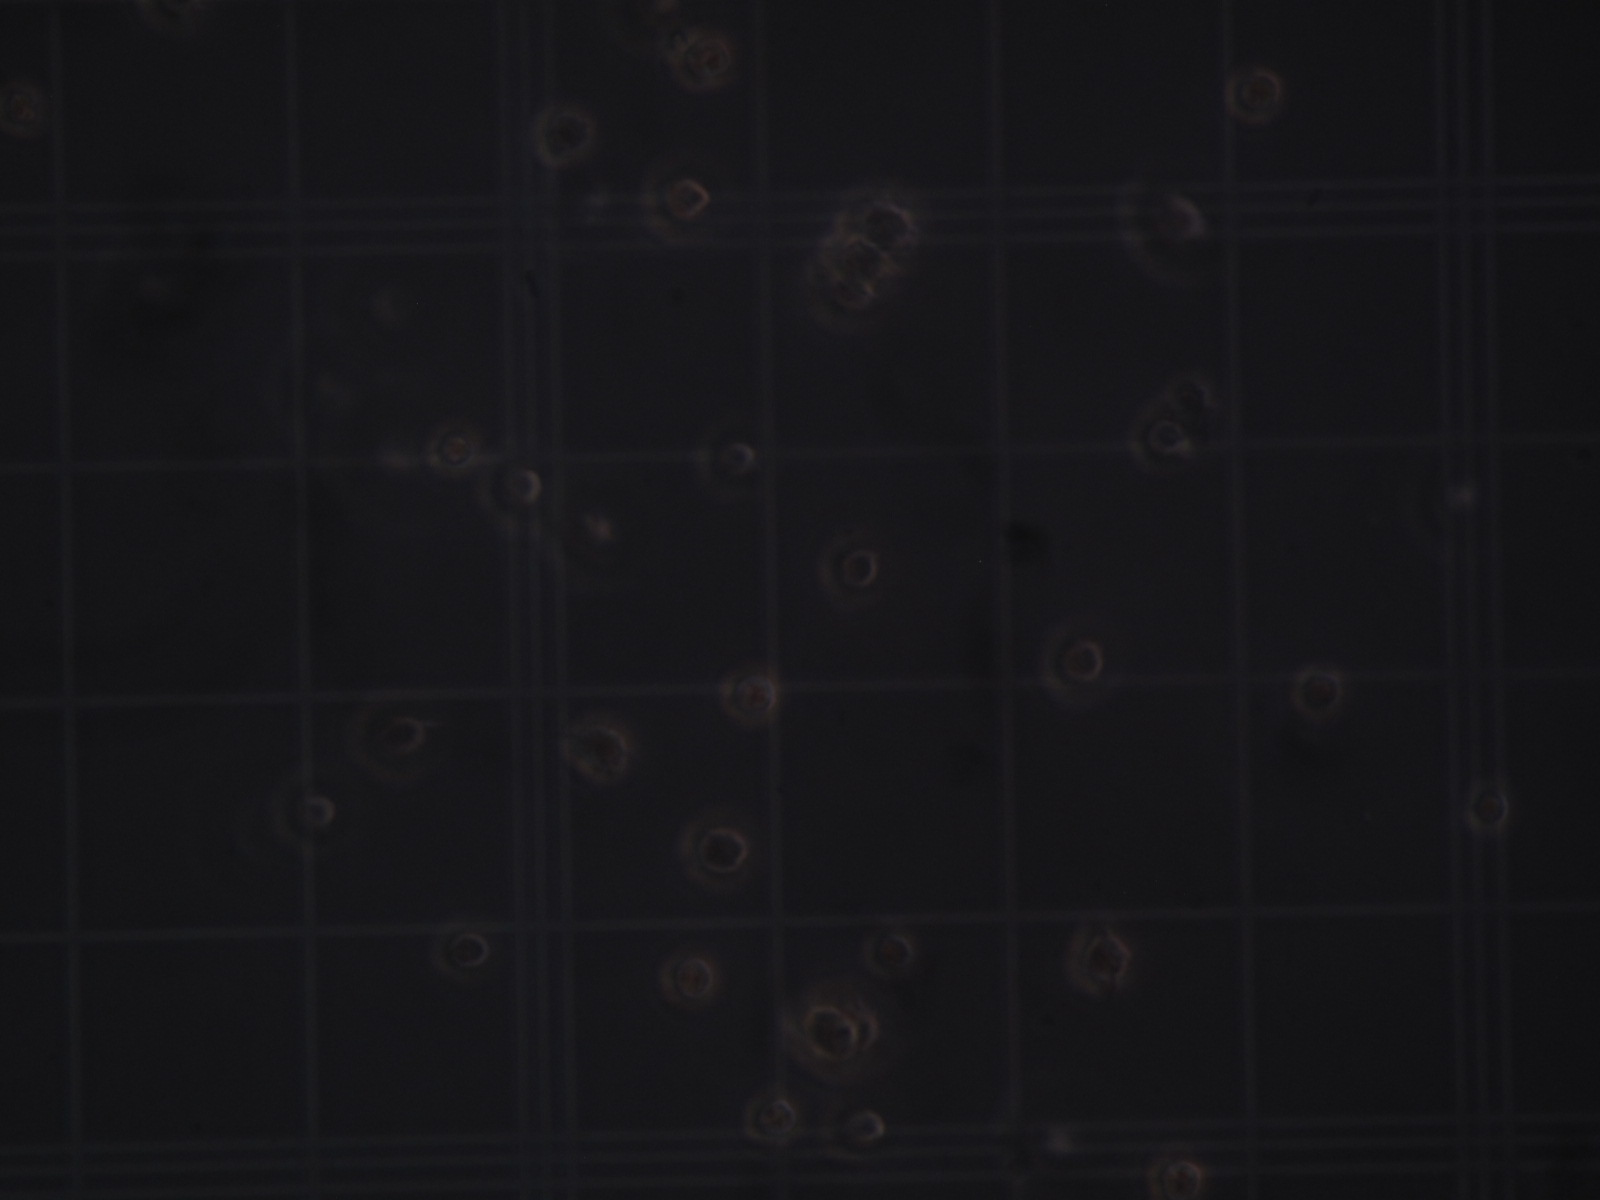hemo: (988, 1087, 1073, 1200), (785, 991, 877, 1082), (348, 693, 426, 783), (270, 768, 336, 855), (640, 163, 709, 246), (677, 819, 750, 891), (1041, 624, 1104, 706), (477, 456, 543, 534), (693, 424, 755, 500), (820, 1094, 886, 1165), (1126, 405, 1191, 475), (816, 534, 878, 608), (1068, 926, 1131, 995), (816, 234, 889, 291), (567, 722, 630, 783), (533, 106, 595, 166), (857, 197, 917, 257), (431, 920, 490, 981), (671, 35, 732, 91), (658, 950, 716, 1007), (1225, 67, 1283, 124), (719, 671, 779, 724), (743, 1093, 799, 1145), (425, 424, 479, 475), (1293, 666, 1344, 718), (862, 928, 915, 978), (1146, 1155, 1204, 1200), (816, 275, 873, 316), (1465, 782, 1511, 832)
